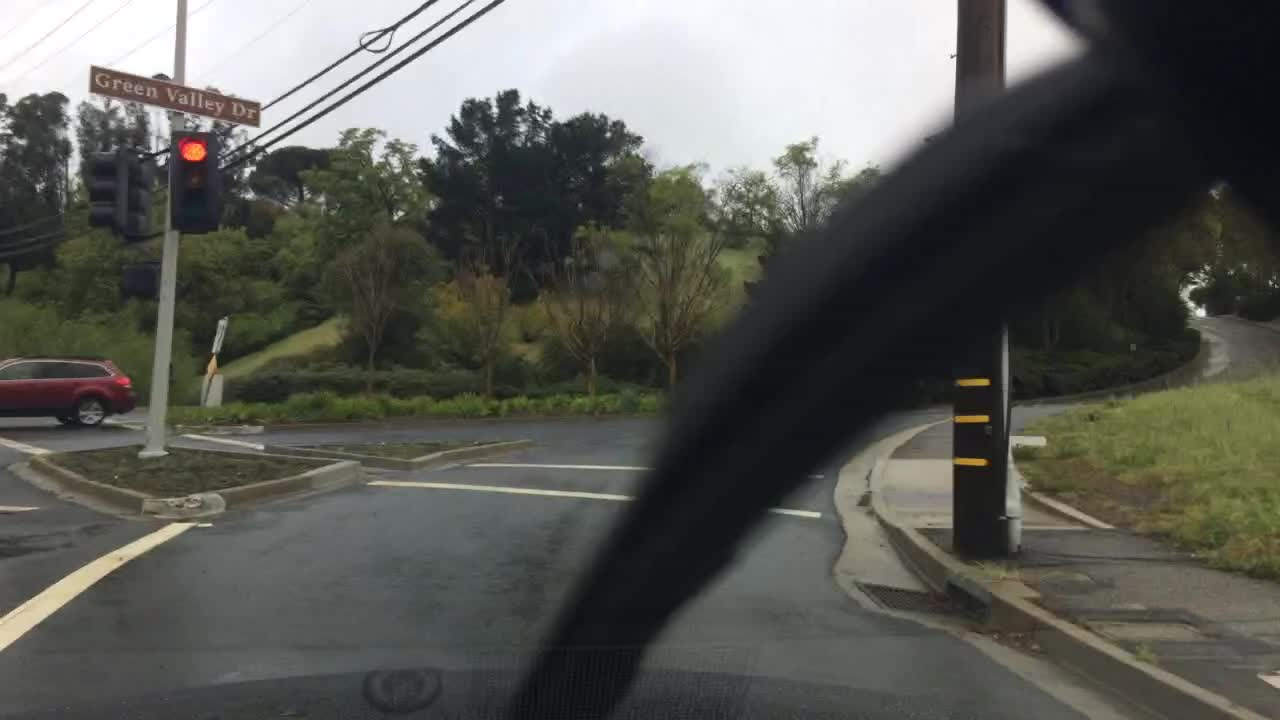car: (0, 354, 132, 426)
traffic light: (172, 132, 217, 227), (88, 147, 126, 229), (127, 152, 153, 229)
traffic sign: (89, 63, 262, 128), (207, 314, 227, 355)
